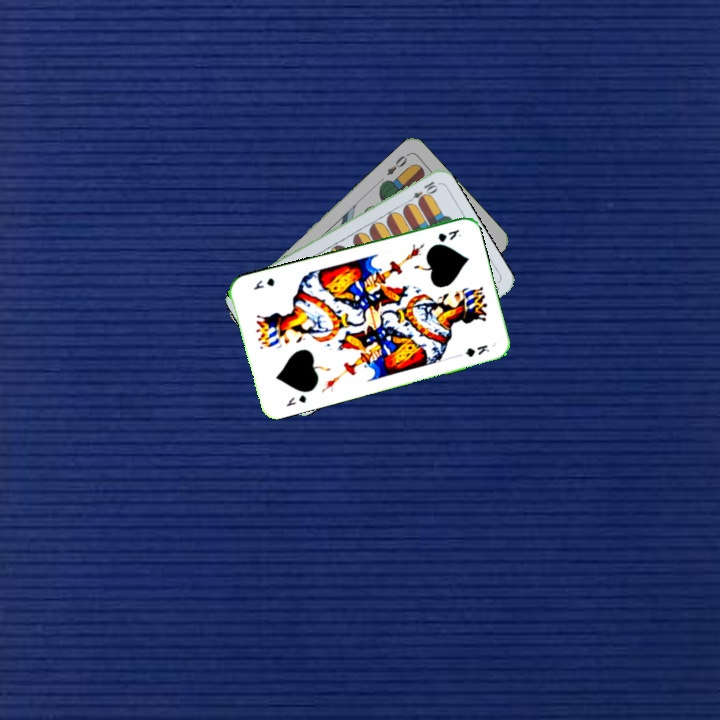E10: (403, 177, 440, 207)
EO: (382, 149, 412, 178)
GK: (434, 225, 464, 245), (282, 391, 309, 409)
